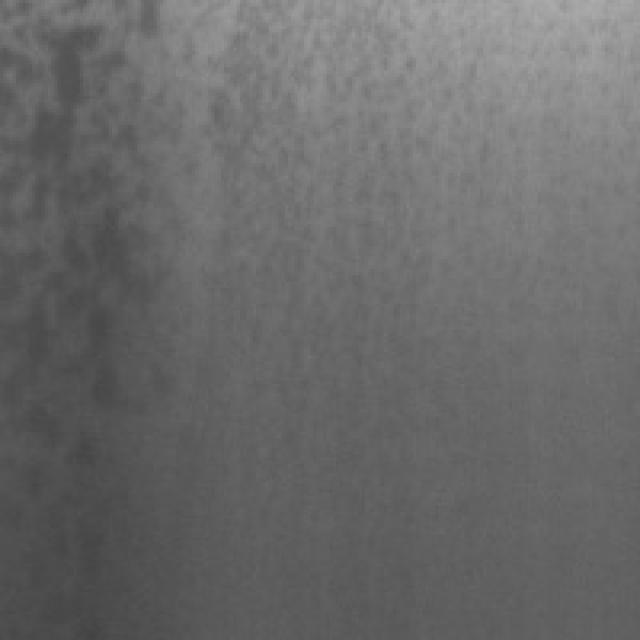pitted_surface: (198, 0, 614, 429), (0, 0, 176, 630)
